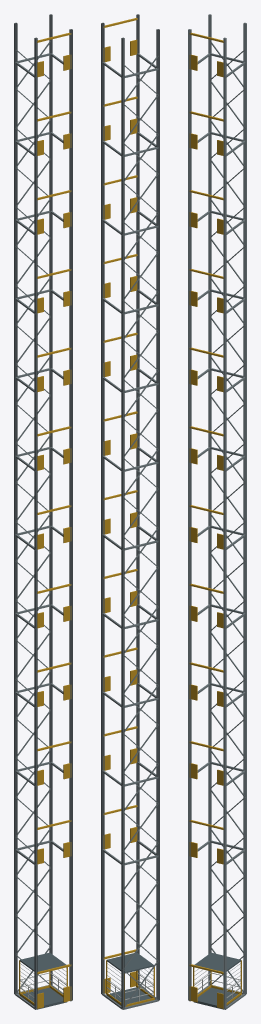
The model's file is elevator.glb.
3 renders of one model, left to right at view 1: azimuth 30°, elevation 25°; view 2: azimuth 210°, elevation 25°; view 3: azimuth 330°, elevation 25°, orthographic.
Visible parts, largest first — view 1: shaft, cab; view 2: shaft, cab; view 3: shaft, cab.
Part boxes in pixels (left/top/right/bottom): shaft: left=14, top=14, right=72, bottom=1009; cab: left=19, top=952, right=67, bottom=1009; shaft: left=101, top=14, right=159, bottom=1009; cab: left=106, top=952, right=154, bottom=1006; shaft: left=188, top=14, right=246, bottom=1009; cab: left=193, top=952, right=241, bottom=1009.
Bounding box in the file's own units: 2.97 × 74.18 × 2.97.
